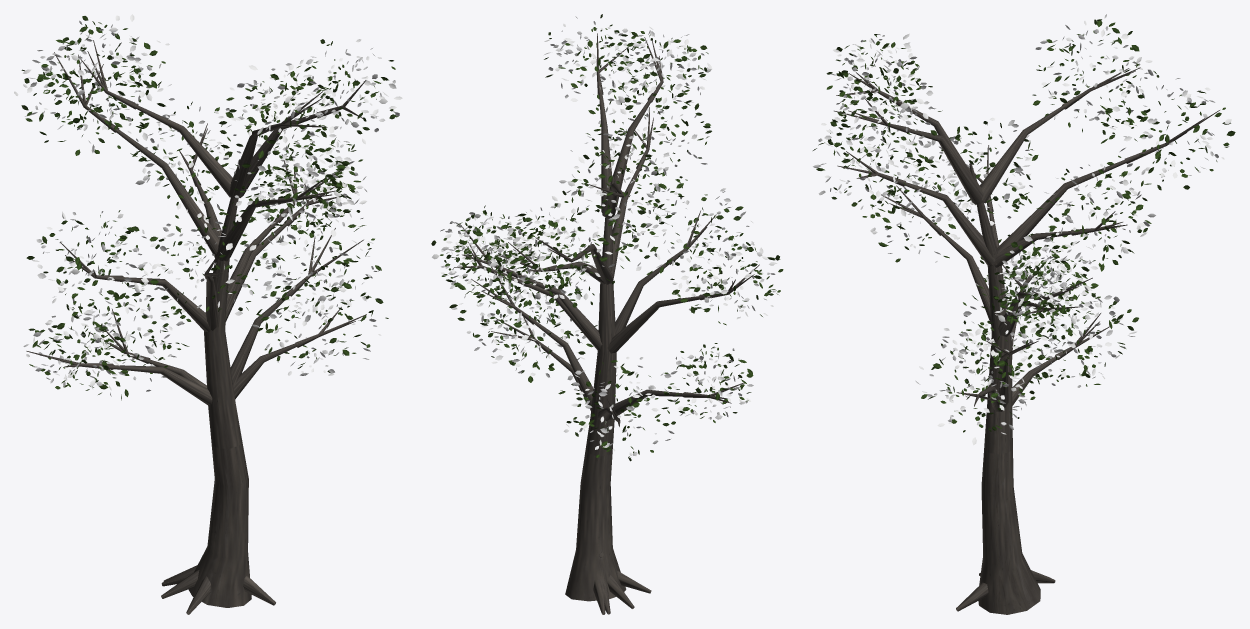
The model's file is SM_Env_Tile_m3_m4.fbx.
The picture shows the model from 3 angles, left to right: view 1: azimuth 30°, elevation 25°; view 2: azimuth 150°, elevation 25°; view 3: azimuth 270°, elevation 25°; orthographic projection. The views are drawn at different scales.
Parts seen in each view (by area): view 1: SM_Env_Tile_m3_m4; view 2: SM_Env_Tile_m3_m4; view 3: SM_Env_Tile_m3_m4.
Boxes of the visible parts, x1,y1,x2,y2 form: SM_Env_Tile_m3_m4: [14, 14, 402, 614]; SM_Env_Tile_m3_m4: [431, 14, 783, 614]; SM_Env_Tile_m3_m4: [813, 14, 1235, 614].
Size of the model in its own units: 808 by 890 by 1312.
5 materials, 2 textured.
